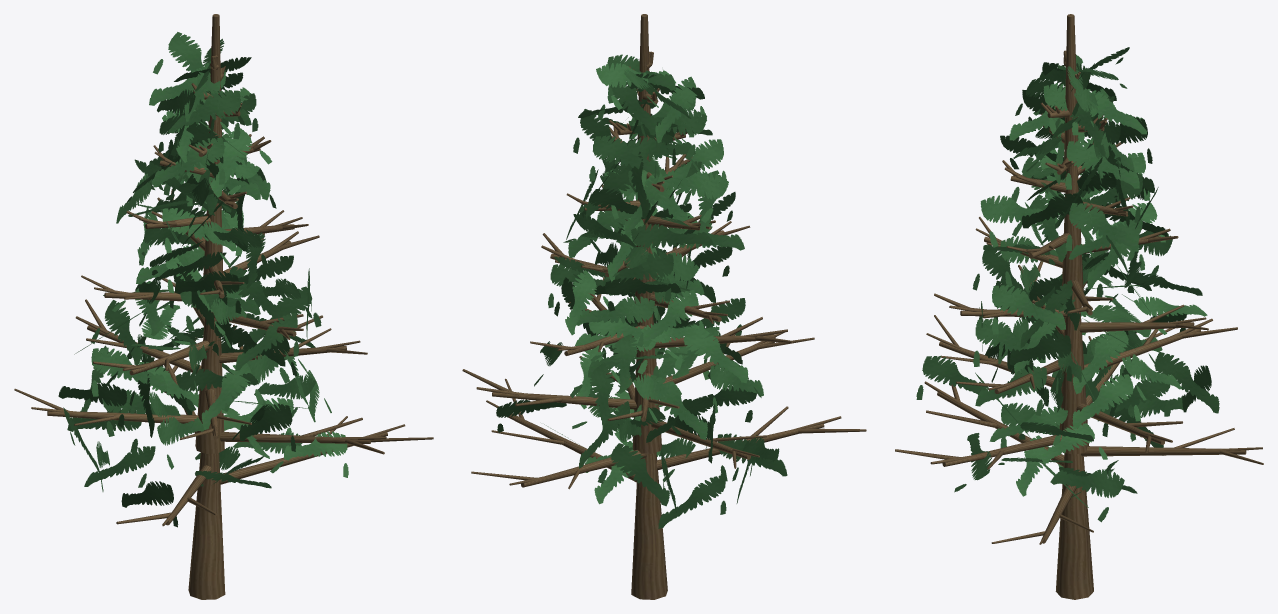
3 renders of one model, left to right at view 1: azimuth 30°, elevation 25°; view 2: azimuth 150°, elevation 25°; view 3: azimuth 270°, elevation 25°, orthographic.
Parts seen in each view (by area): view 1: pine-needle, pine-bark; view 2: pine-needle, pine-bark; view 3: pine-needle, pine-bark.
Boxes of the visible parts, x1,y1,x2,y2 form: pine-needle: (58, 32, 348, 527); pine-bark: (14, 14, 433, 599); pine-needle: (496, 54, 787, 528); pine-bark: (462, 14, 866, 599); pine-needle: (916, 47, 1219, 522); pine-bark: (895, 14, 1263, 599).
Size of the model in its own units: 6.17 by 10.01 by 5.77.
2 materials, 2 textured.
